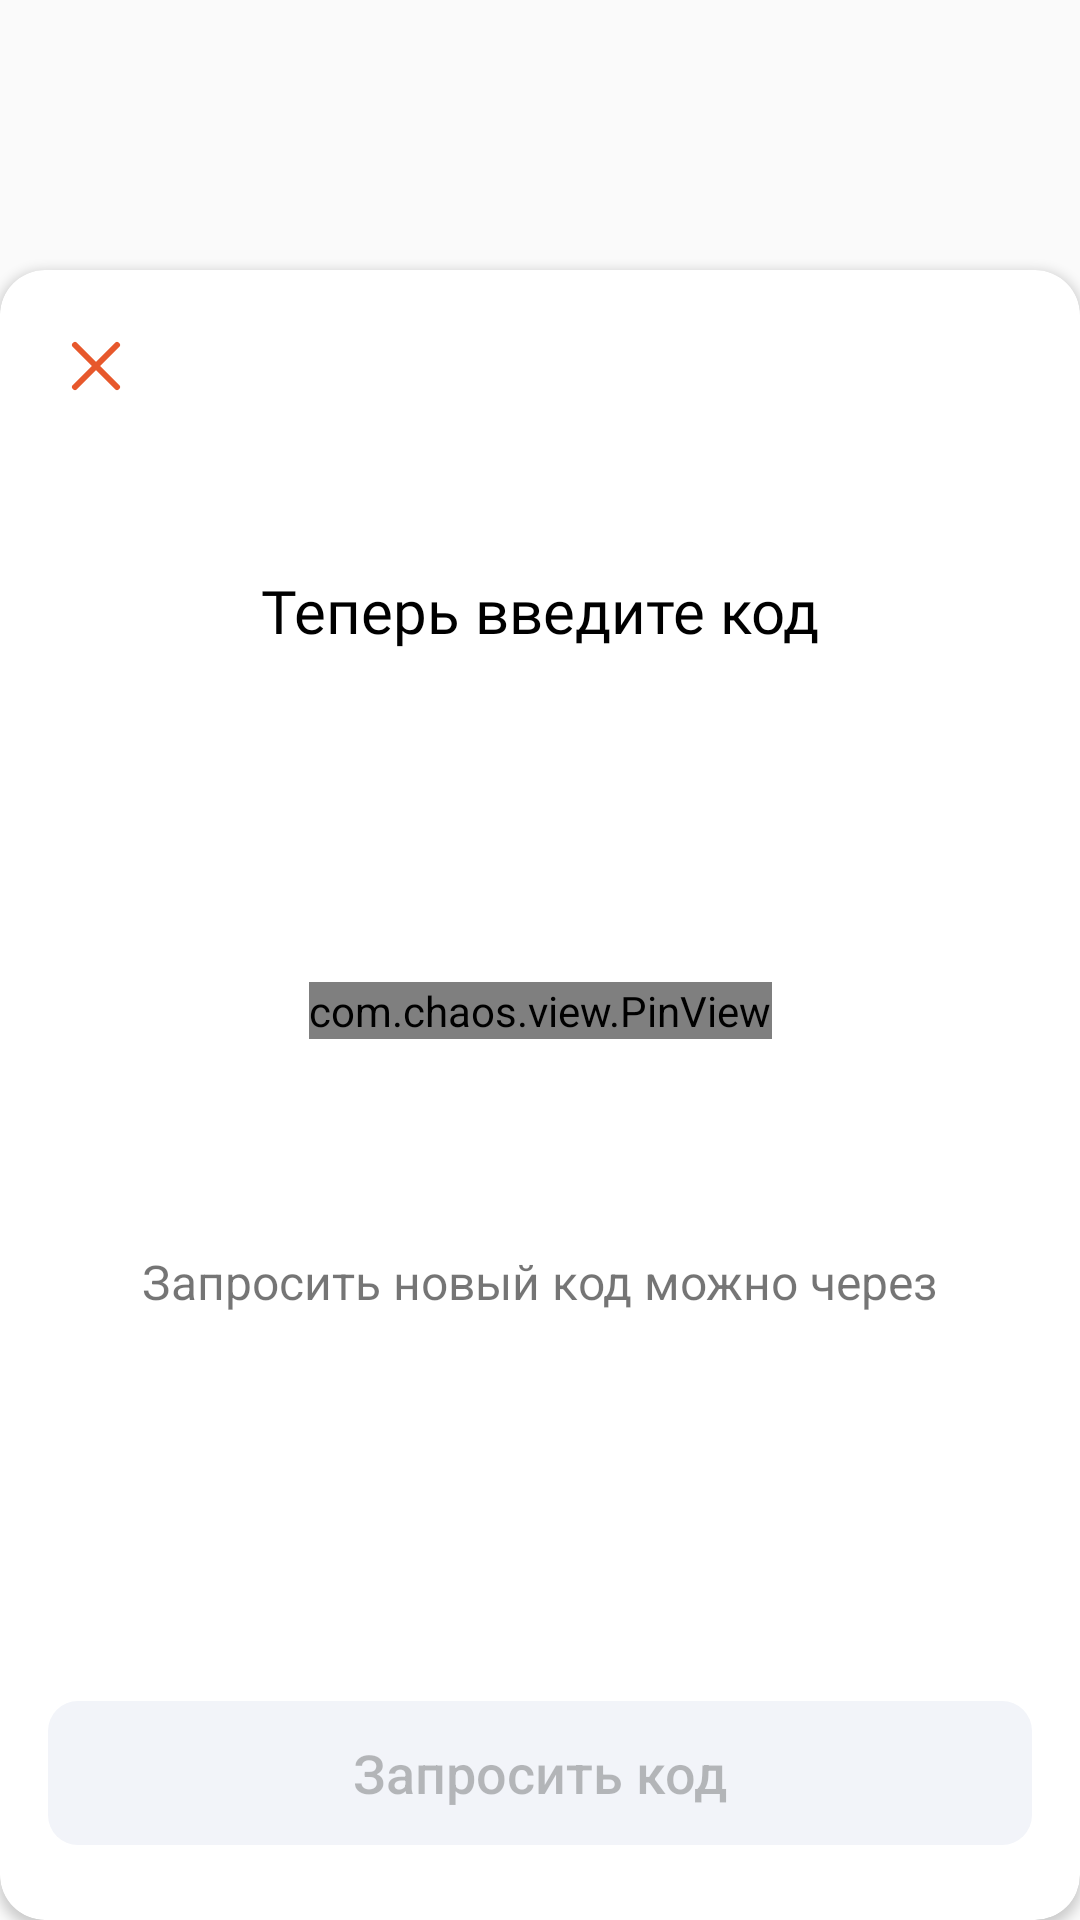

Screen size 1080 x 1920. Icon name, then its box in pixels as (x1,y1,x2,y2):
close: (72,342,120,390)
